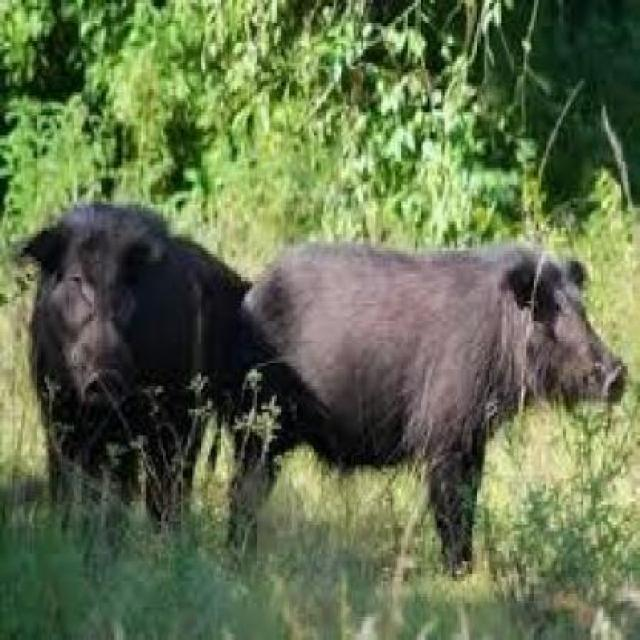wildboar: (214, 236, 632, 569), (10, 186, 327, 560)
